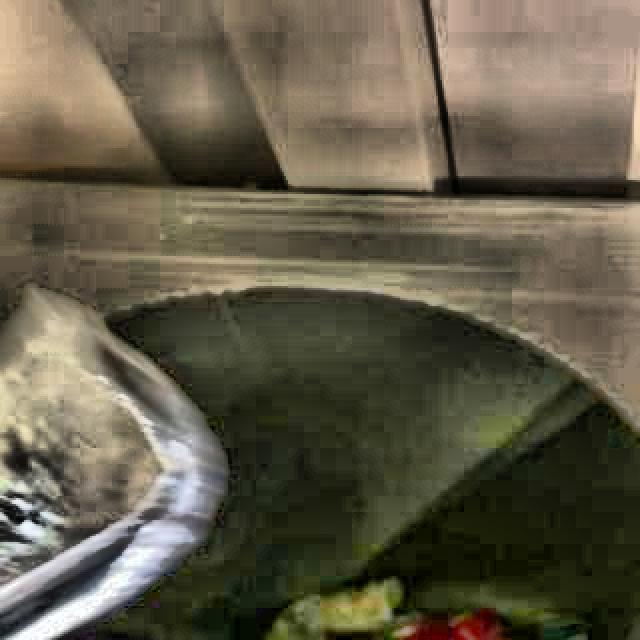metal: (0, 289, 222, 640)
